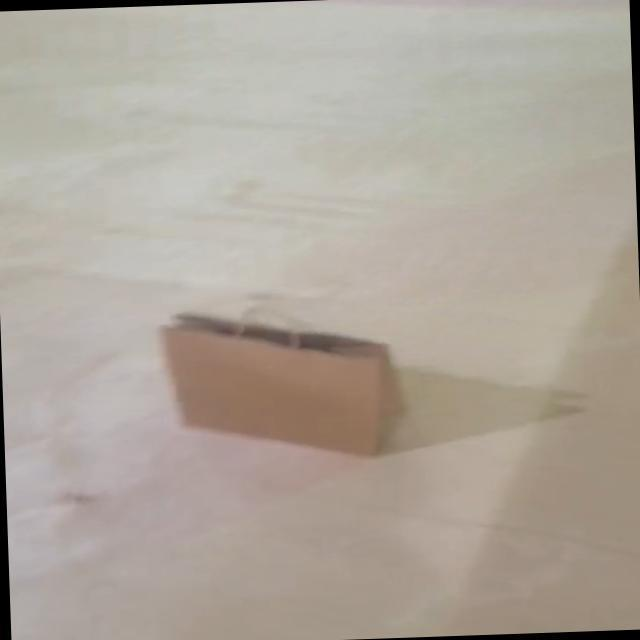Paper_Bag: (158, 301, 406, 464)
